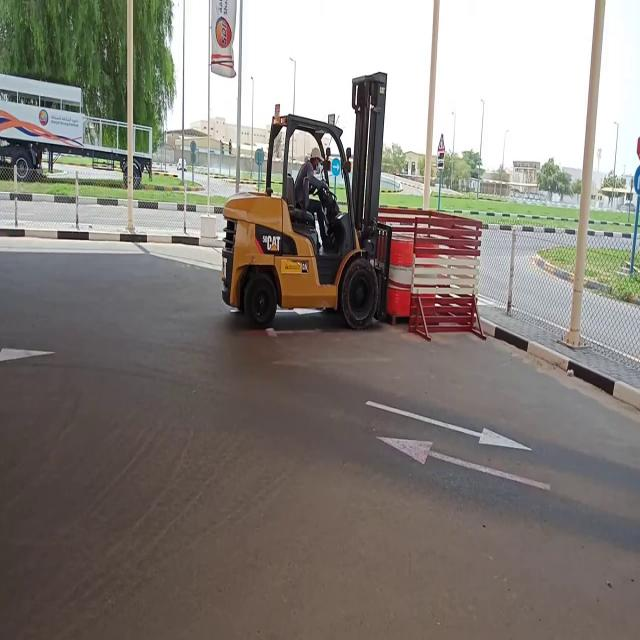Chariot elevateur: (214, 98, 390, 344)
